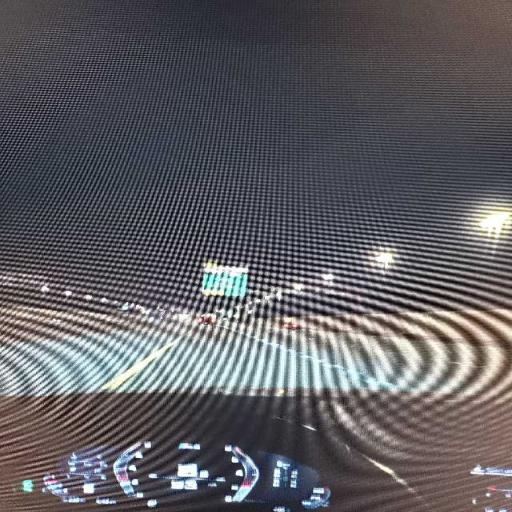lane: (0, 325, 509, 396)
